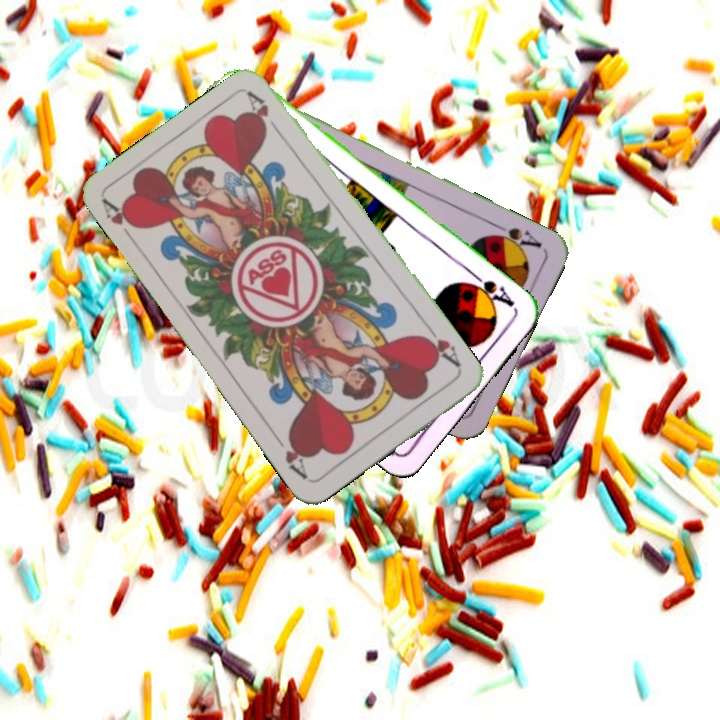HA: (98, 195, 143, 248), (417, 321, 463, 370)
SA: (462, 268, 518, 310), (486, 219, 545, 254)
